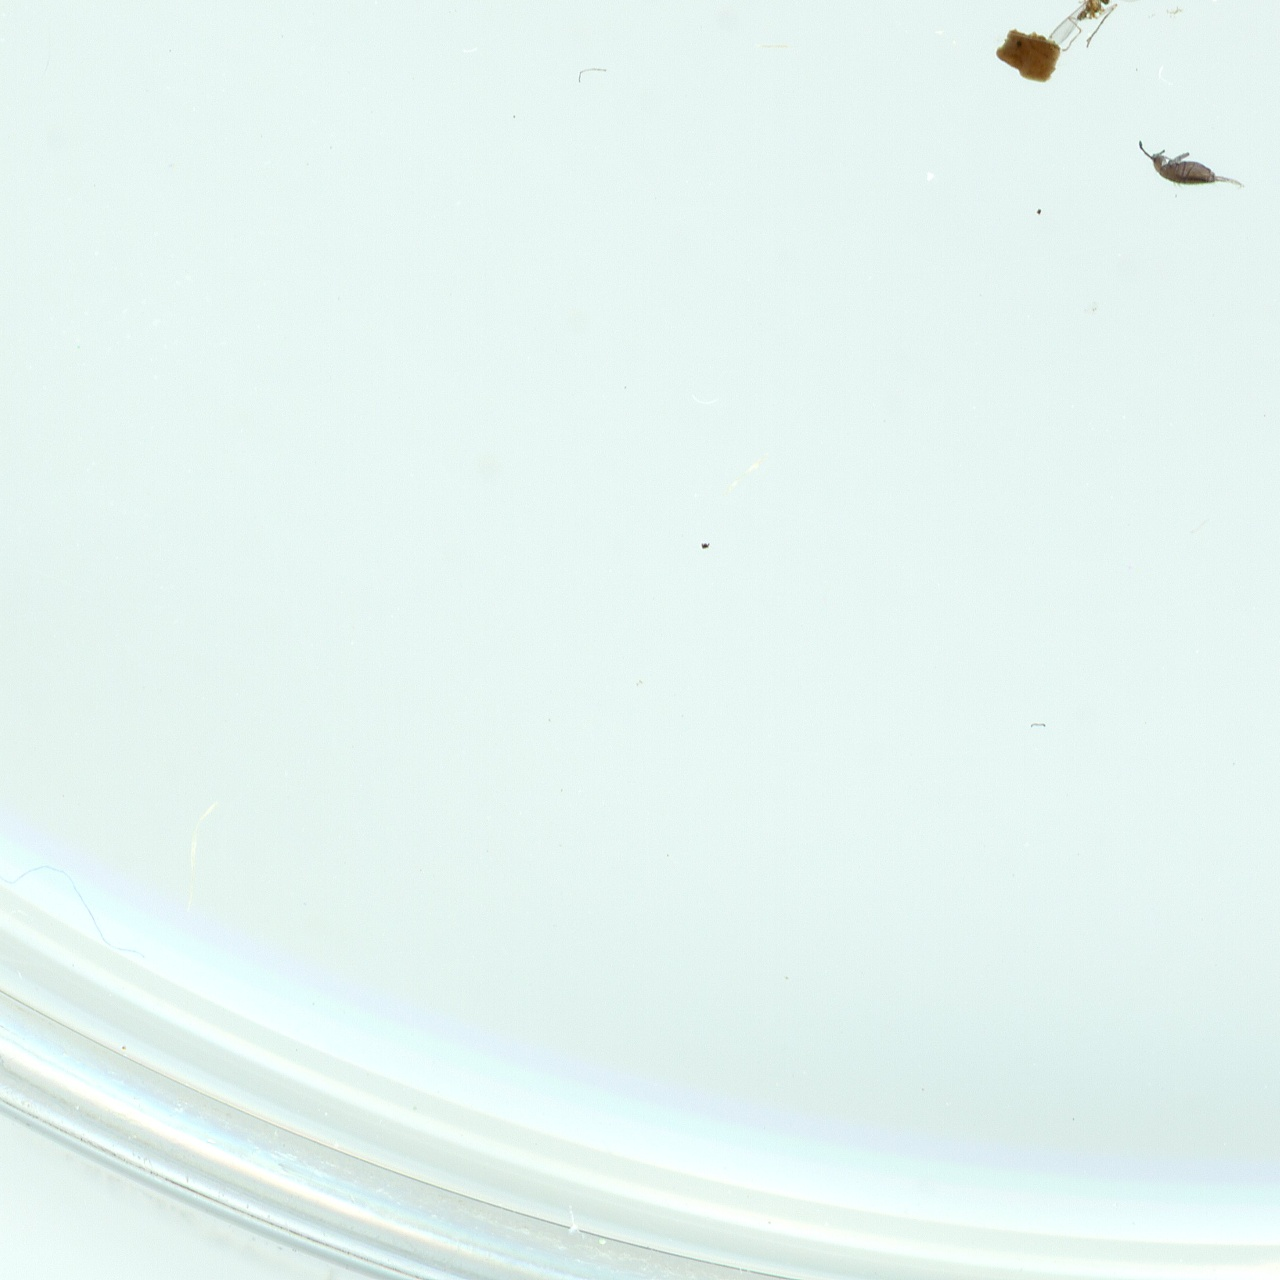arthropod: (1040, 0, 1155, 54), (1136, 136, 1244, 188)
